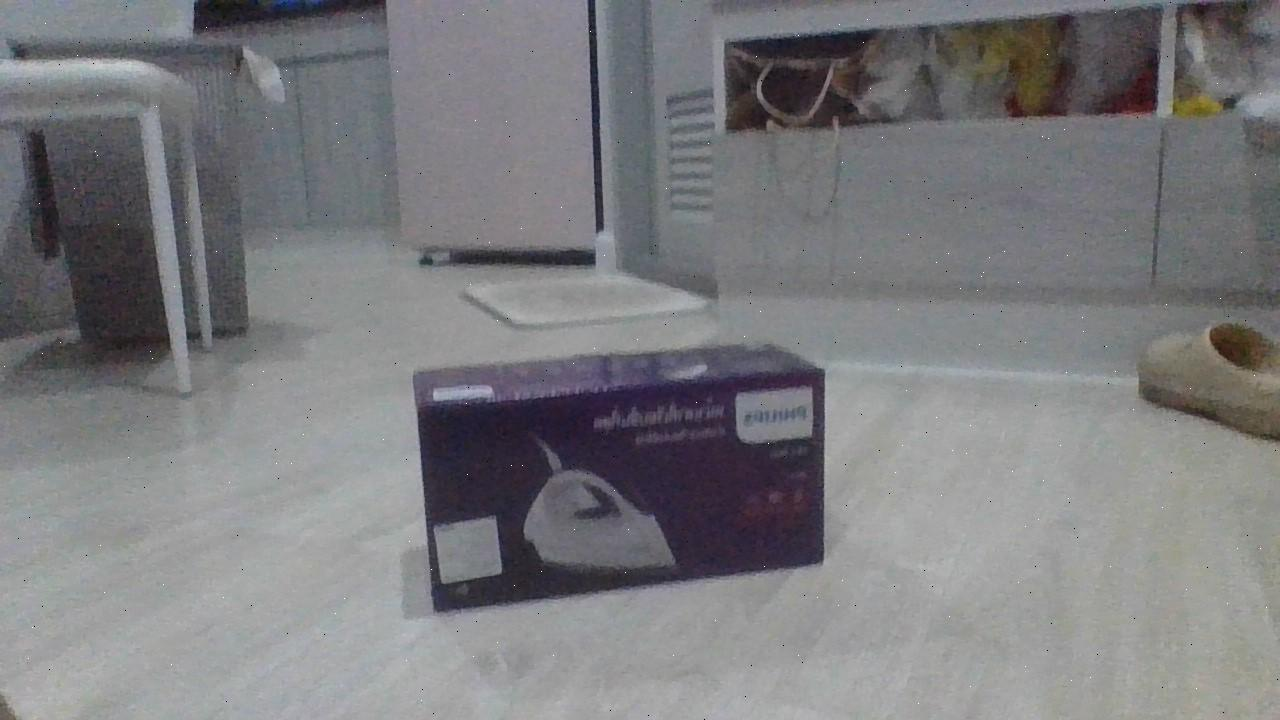IRON: (409, 338, 832, 617)
